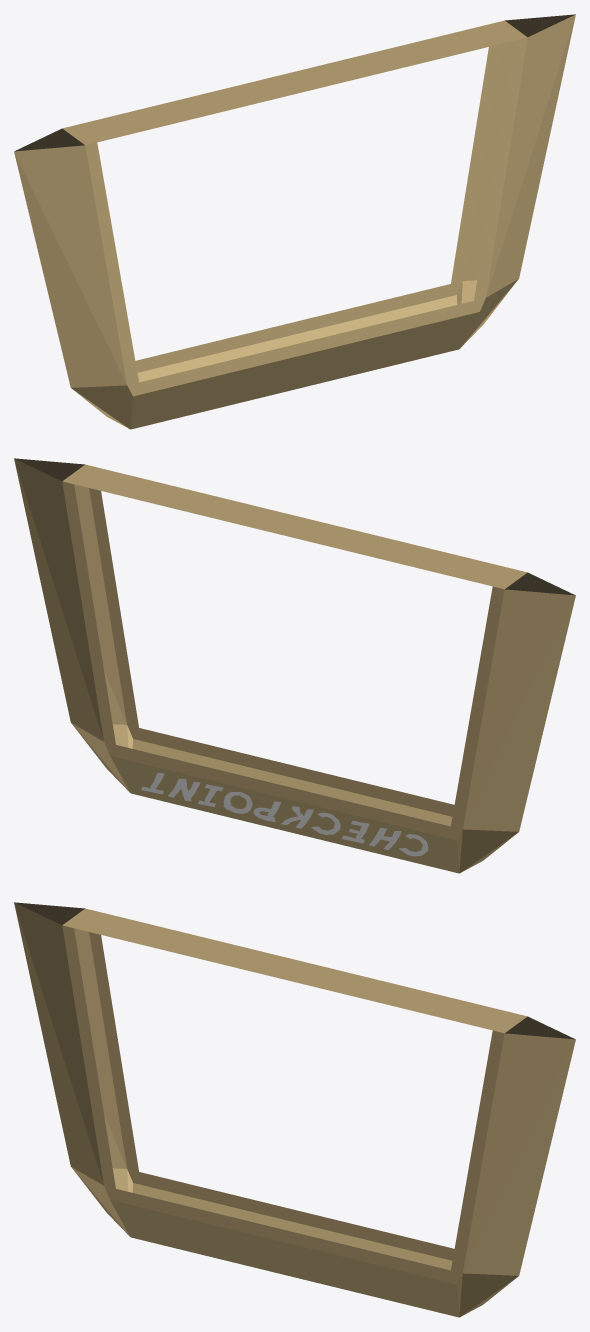
Rendered from dchk.obj.
3 renders of one model, top to bottom at view 1: azimuth 30°, elevation 25°; view 2: azimuth 150°, elevation 25°; view 3: azimuth 330°, elevation 25°, orthographic.
Size of the model in its own units: 1692 by 882 by 121.
